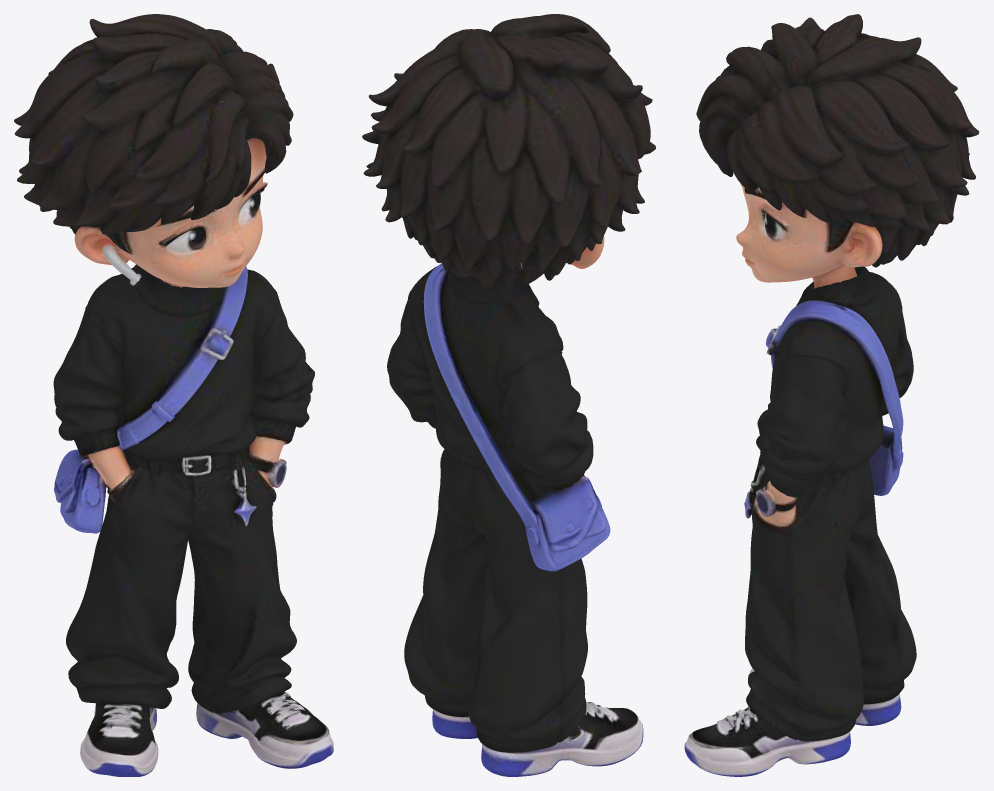
File: meme_low.glb
The picture shows the model from 3 angles, left to right: view 1: azimuth 30°, elevation 25°; view 2: azimuth 150°, elevation 25°; view 3: azimuth 270°, elevation 25°; orthographic projection. The views are drawn at different scales.
Visible parts, largest first — view 1: tripo_node_8083ac4d-b1f3-41e7-9114-44d6882cc808; view 2: tripo_node_8083ac4d-b1f3-41e7-9114-44d6882cc808; view 3: tripo_node_8083ac4d-b1f3-41e7-9114-44d6882cc808.
Boxes of the visible parts, x1,y1,x2,y2 form: tripo_node_8083ac4d-b1f3-41e7-9114-44d6882cc808: [14, 14, 333, 776]; tripo_node_8083ac4d-b1f3-41e7-9114-44d6882cc808: [362, 14, 655, 776]; tripo_node_8083ac4d-b1f3-41e7-9114-44d6882cc808: [684, 14, 979, 776].
Size of the model in its own units: 11.5 by 30.07 by 11.61.
Materials: 1 (1 with a texture image).
